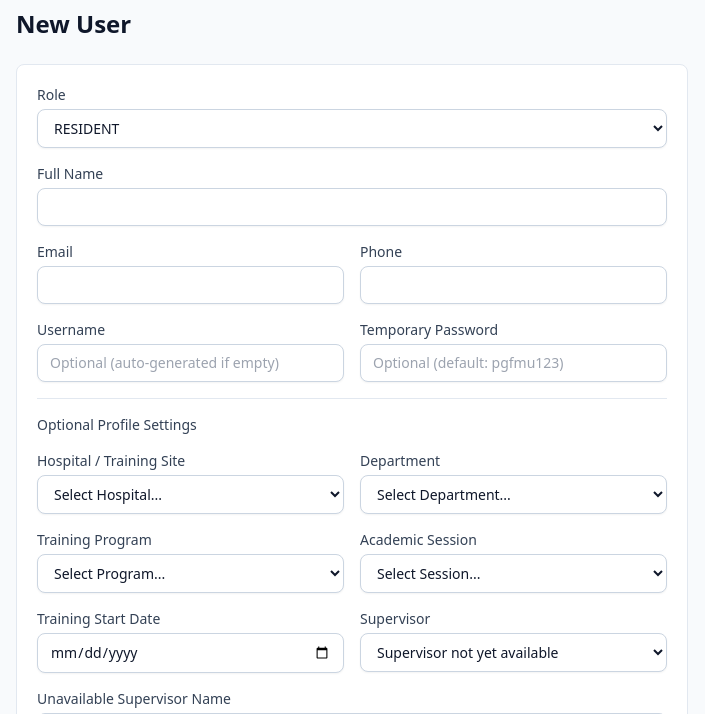
Test: falls back to resident for an invalid role and survives failed dropdown requests
The width and height of the screenshot is (705, 714).
Select "SUPERVISOR" in the dropdown labelled "Role": (352, 128) [37, 109, 667, 148]
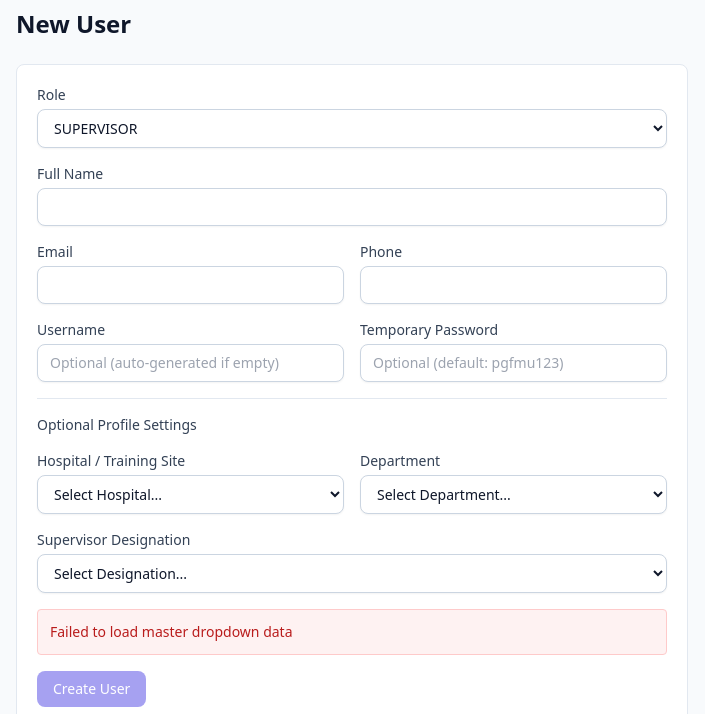
Expected: the dropdown labelled "Supervisor Designation" is shown, [37, 554, 667, 593]
